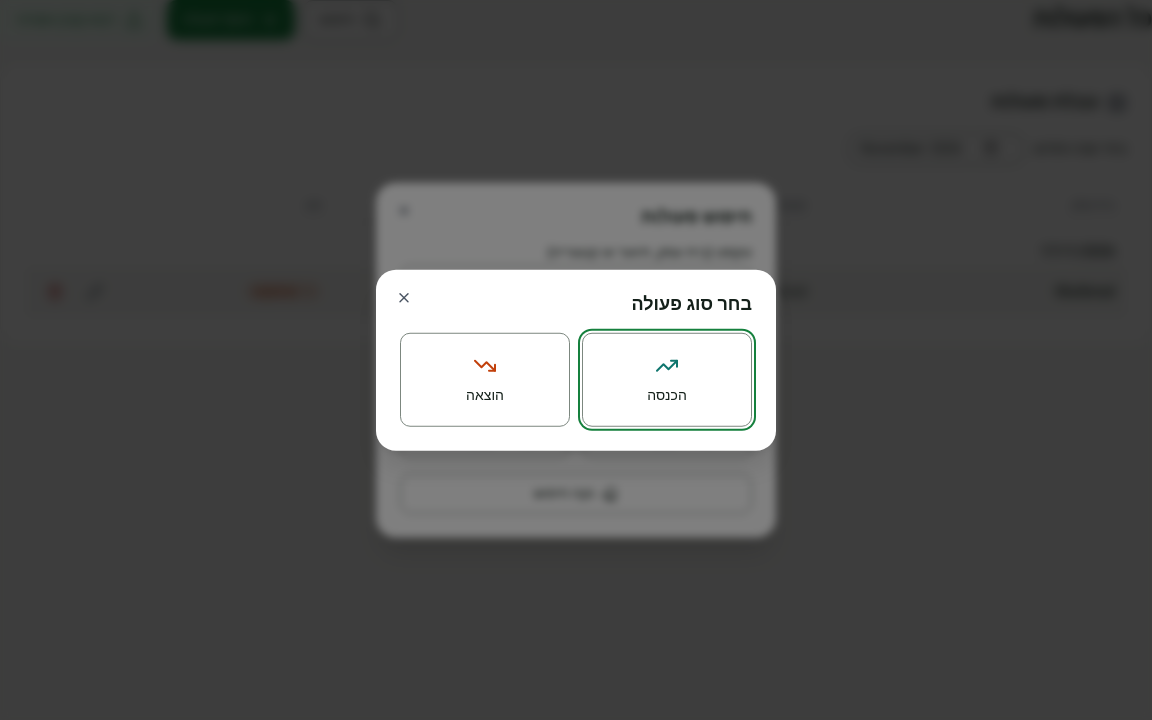
it: search › searching never touches the add form data
Earlier steps of the test are not shown.
Click the button "הוצאה": click(485, 379) [400,332,570,426]
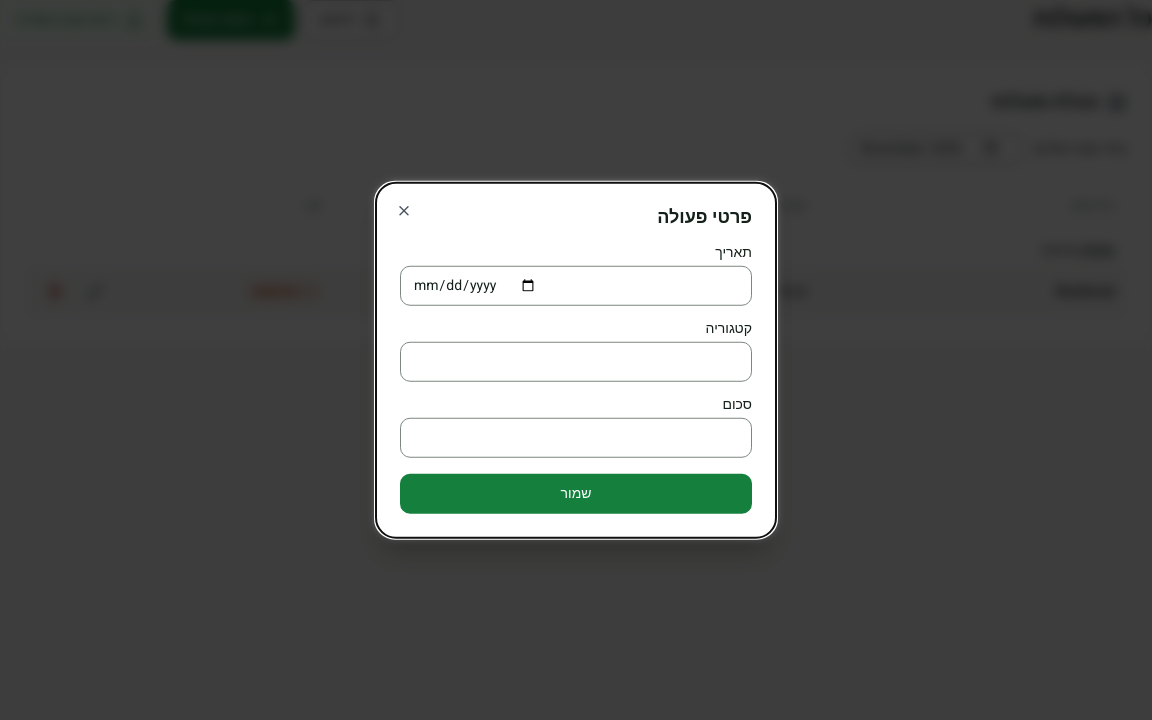
expect the field named "category" is empty: met, box [400,341,752,381]
